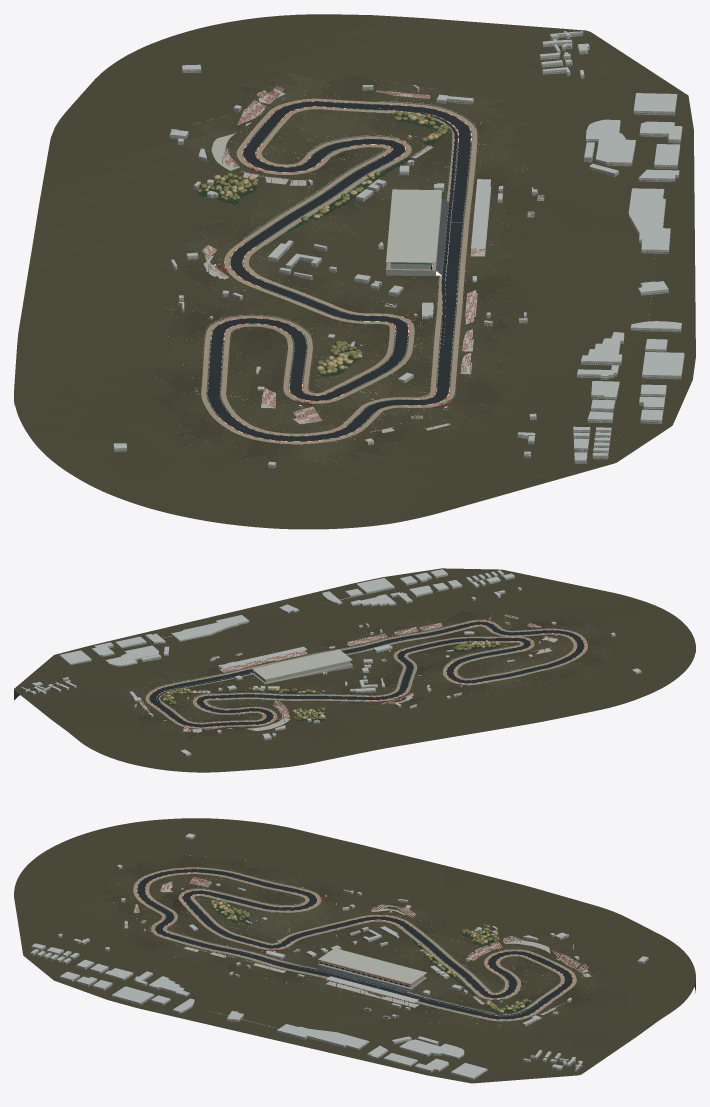
File: Catalunya.glb
3 renders of one model, top to bottom at view 1: azimuth 30°, elevation 25°; view 2: azimuth 150°, elevation 25°; view 3: azimuth 270°, elevation 25°, orthographic. The views are drawn at different scales.
Parts seen in each view (by area): view 1: terrain/ground, terrain-ground-finish-1, terrain-ground-finish-3, terrain-ground-finish-2, road/asphalt, terrain-extension/land, runoff/gravel, terrain-ground-finish-4, terrain-ground-finish-0, pit-01/roof, shoulder/runoff, urban-map-tile-3-0/roof (+13 smaller); view 2: terrain/ground, terrain-ground-finish-1, terrain-ground-finish-3, terrain-ground-finish-2, road/asphalt, runoff/gravel, terrain-extension/land, terrain-ground-finish-4, terrain-ground-finish-0, shoulder/runoff, pit-01/roof, barriers/steel (+9 smaller); view 3: terrain/ground, terrain-ground-finish-3, terrain-ground-finish-1, terrain-ground-finish-2, road/asphalt, terrain-extension/land, runoff/gravel, terrain-ground-finish-4, terrain-ground-finish-0, shoulder/runoff, pit-01/roof, barriers/steel (+10 smaller).
Boxes of the visible parts, x1,y1,x2,y2 form: terrain/ground: (14,14,664,529); terrain-ground-finish-1: (148,76,537,462); terrain-ground-finish-3: (145,74,533,464); terrain-ground-finish-2: (159,80,531,466); road/asphalt: (207,101,470,441); terrain-extension/land: (441,19,695,508); runoff/gravel: (201,98,477,444); terrain-ground-finish-4: (169,75,523,463); terrain-ground-finish-0: (152,75,521,460); pit-01/roof: (386,189,441,263); shoulder/runoff: (206,101,472,441); urban-map-tile-3-0/roof: (628,188,670,249); terrain/ground: (37,576,695,772); terrain-ground-finish-1: (137,607,617,737); terrain-ground-finish-3: (117,612,614,738); terrain-ground-finish-2: (124,610,613,735); road/asphalt: (149,621,584,727); runoff/gravel: (145,620,587,728); terrain-extension/land: (14,568,602,718); terrain-ground-finish-4: (119,613,611,736); terrain-ground-finish-0: (137,611,611,739); shoulder/runoff: (148,621,584,727); pit-01/roof: (252,649,352,679); barriers/steel: (145,619,534,714); terrain/ground: (14,818,695,1072); terrain-ground-finish-3: (106,854,608,1036); terrain-ground-finish-1: (101,853,608,1030); terrain-ground-finish-2: (101,855,604,1034); road/asphalt: (137,869,572,1019); terrain-extension/land: (15,903,630,1083); runoff/gravel: (133,867,576,1020); terrain-ground-finish-4: (109,857,604,1033); terrain-ground-finish-0: (105,855,608,1013); shoulder/runoff: (136,868,573,1019); pit-01/roof: (318,948,426,984); barriers/steel: (150,878,552,1021).
Size of the model in its own units: 1725 by 68.1 by 1876.
